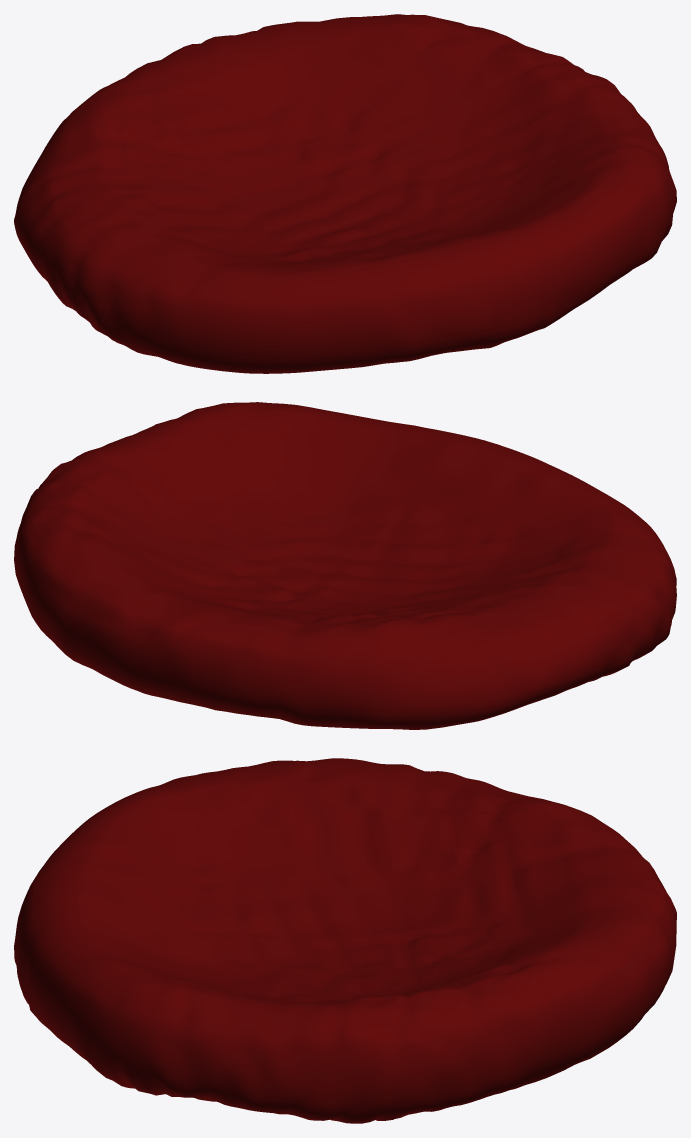
The model's file is optimized_alyuvar.glb.
The picture shows the model from 3 angles, top to bottom: view 1: azimuth 30°, elevation 25°; view 2: azimuth 150°, elevation 25°; view 3: azimuth 270°, elevation 25°; orthographic projection. The views are drawn at different scales.
Visible parts, largest first — view 1: alyuvar001; view 2: alyuvar001; view 3: alyuvar001.
Part boxes in pixels (box(x1,y1,x2,y2)): alyuvar001: box(14, 14, 676, 373); alyuvar001: box(14, 402, 676, 729); alyuvar001: box(14, 758, 676, 1123).
Size of the model in its own units: 3 by 0.6013 by 2.73.
